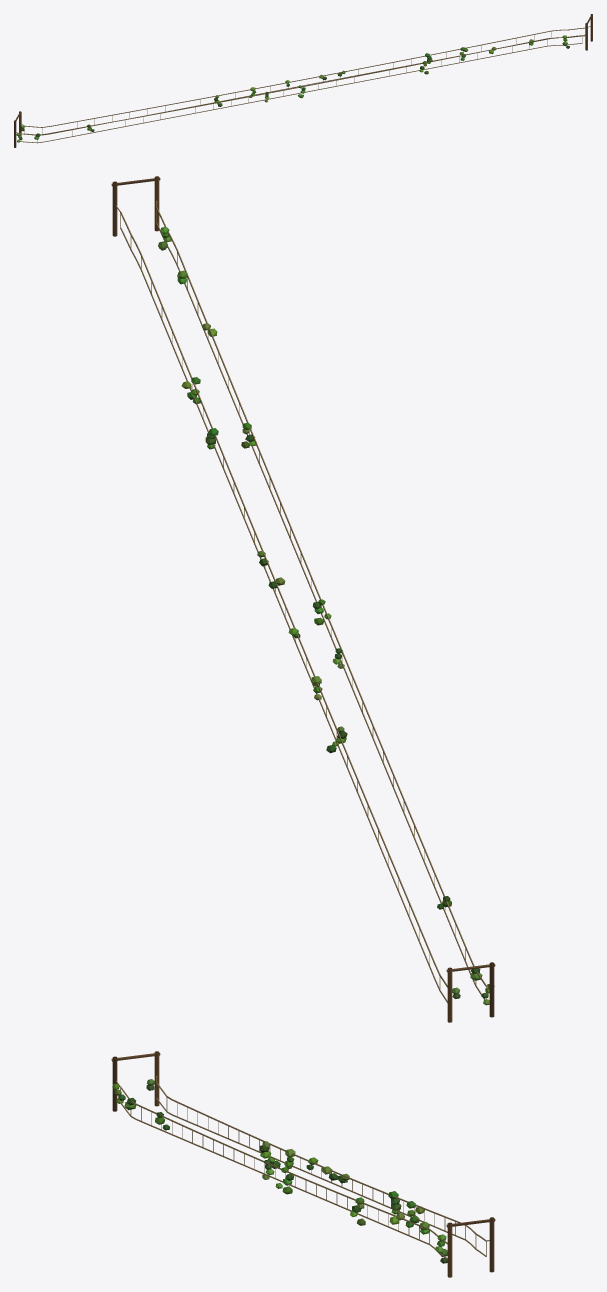
File: SM_Bridge_04_05_Rails.fbx
3 renders of one model, top to bottom at view 1: azimuth 30°, elevation 25°; view 2: azimuth 150°, elevation 25°; view 3: azimuth 330°, elevation 25°, orthographic. The views are drawn at different scales.
Parts seen in each view (by area): view 1: SM_Bridge_04_05_Rails; view 2: SM_Bridge_04_05_Rails; view 3: SM_Bridge_04_05_Rails.
Boxes of the visible parts, x1,y1,x2,y2 form: SM_Bridge_04_05_Rails: [14, 14, 592, 147]; SM_Bridge_04_05_Rails: [111, 176, 495, 1022]; SM_Bridge_04_05_Rails: [111, 1051, 495, 1277].
Size of the model in its own units: 56.89 by 25.62 by 54.11.
